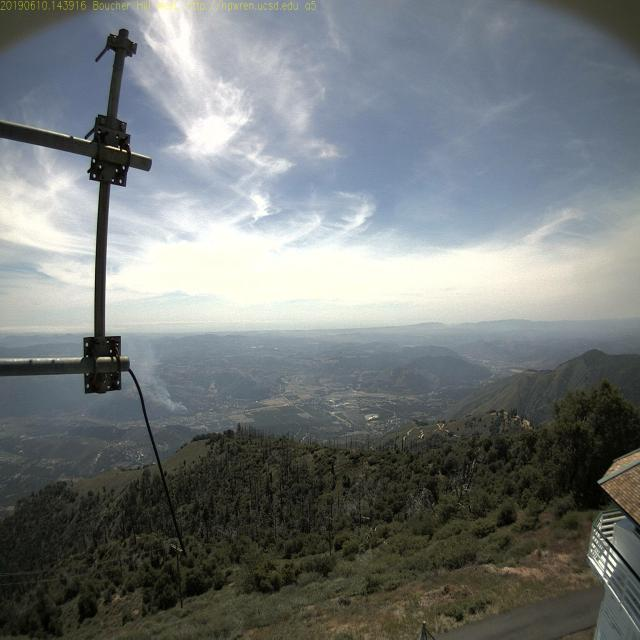smoke: (170, 389, 199, 427)
